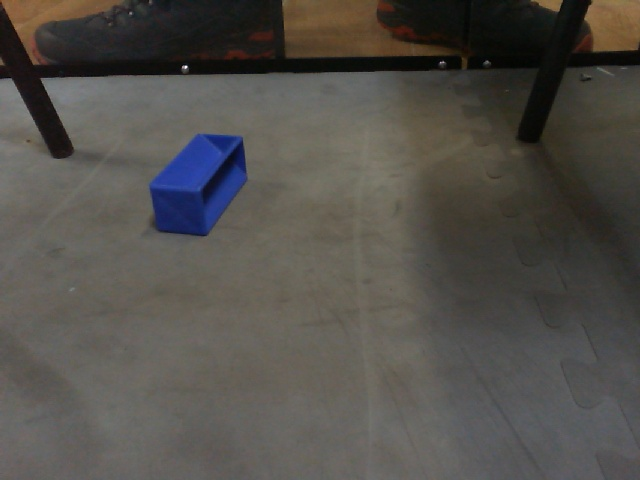BlueSample: (146, 129, 250, 242)
